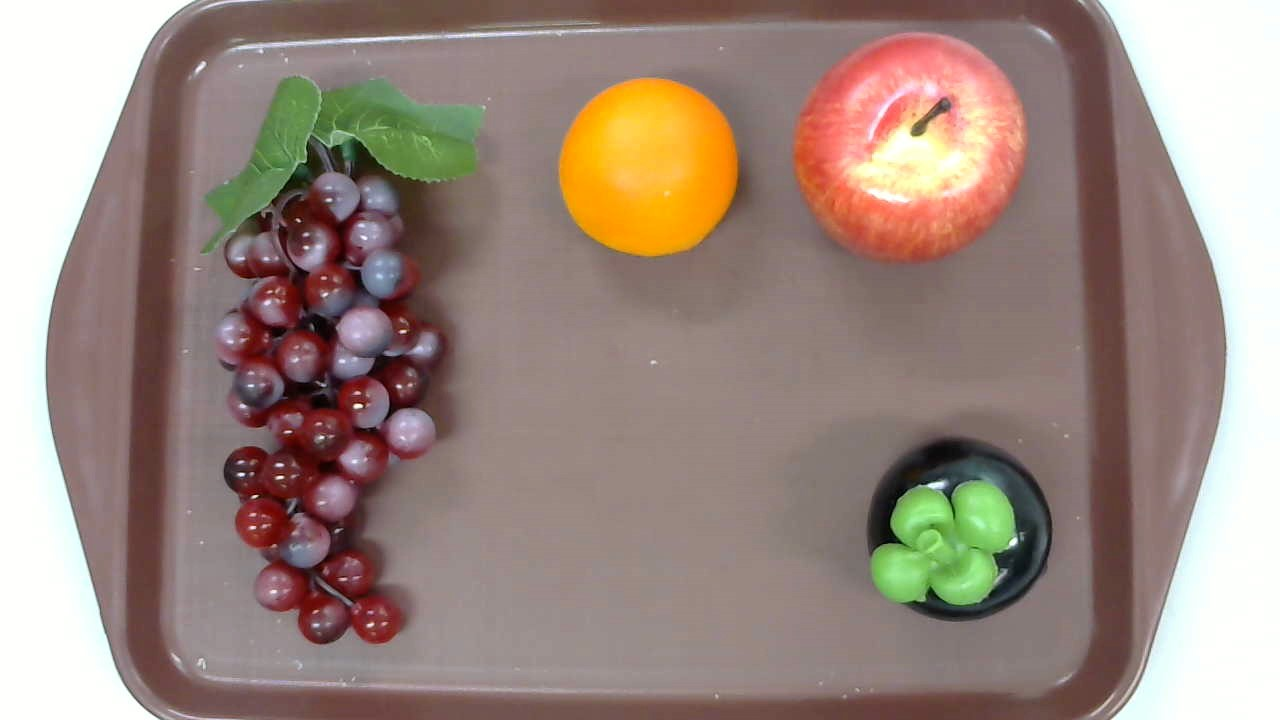bun: (559, 76, 739, 258)
grape: (199, 75, 485, 644)
mangosteen: (866, 437, 1053, 622)
red apple: (792, 31, 1028, 267)
